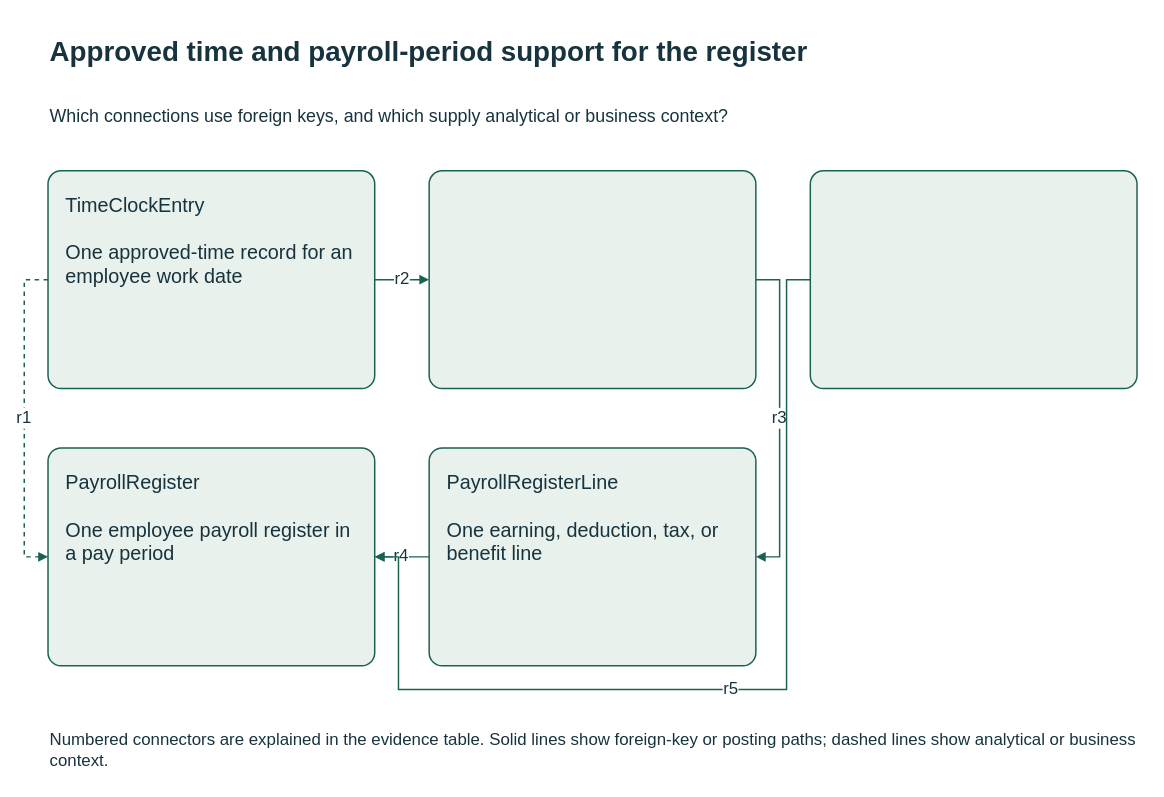
The diagram is 1164 pixels wide and 797 high, and some of its shapes have lost their labels. Each missing label, with the centre of its shape:
"LaborTimeEntry One labor allocation supporting an operation and pay period" goes at point 592,279.
"PayrollPeriod One payroll calendar period" goes at point 973,279.
